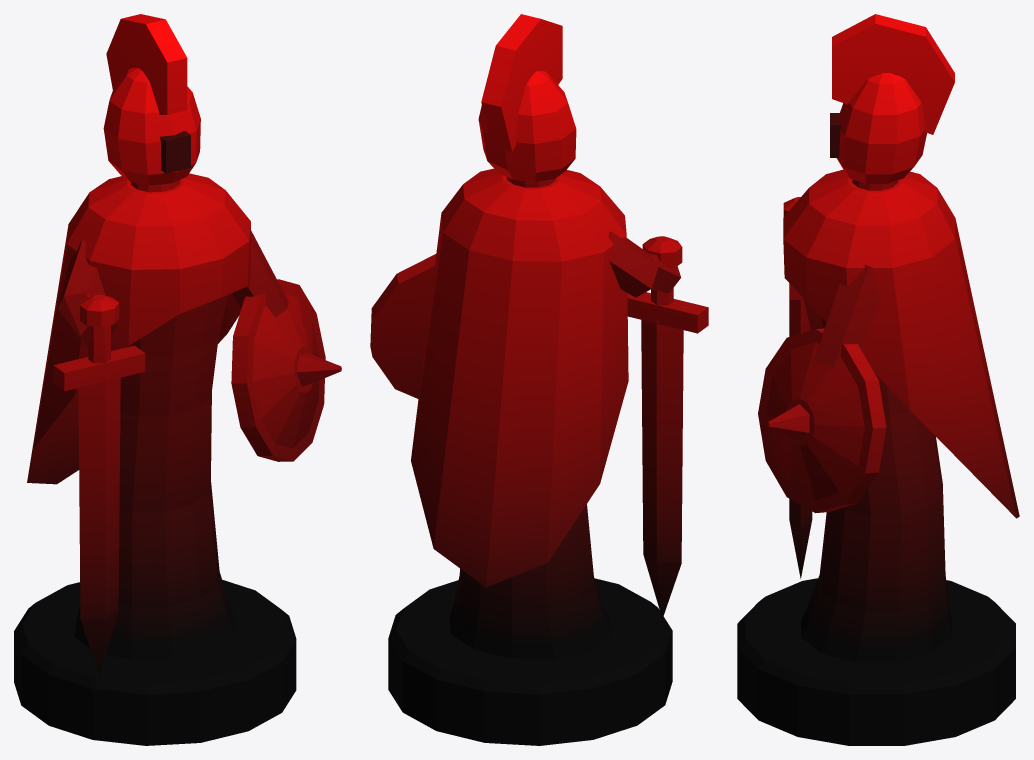
Rendered from ns-swordsman-cast.glb.
3 renders of one model, left to right at view 1: azimuth 30°, elevation 25°; view 2: azimuth 150°, elevation 25°; view 3: azimuth 270°, elevation 25°, orthographic.
Parts seen in each view (by area): view 1: Ringed form.001, Ringed form, Cloak, Blade, Tapered form.003, Ringed form.002, Tapered form.002, Crest, Cube.001, Tapered form, Tapered form.001, Cube (+3 smaller); view 2: Cloak, Ringed form, Ringed form.001, Blade, Ringed form.002, Crest, Tapered form.002, Tapered form, Cube.001, Ringed form.004; view 3: Cloak, Ringed form, Ringed form.001, Tapered form.003, Crest, Ringed form.002, Tapered form.002, Tapered form.001, Blade, Tapered form.004.
Part boxes in pixels (x1,y1,x2,y2): Ringed form.001: [74, 180, 235, 660]; Ringed form: [14, 580, 296, 745]; Cloak: [27, 173, 250, 484]; Blade: [78, 377, 120, 674]; Tapered form.003: [252, 293, 319, 448]; Ringed form.002: [103, 67, 200, 185]; Tapered form.002: [231, 279, 325, 461]; Crest: [106, 14, 187, 114]; Cube.001: [53, 345, 145, 391]; Tapered form: [57, 241, 117, 347]; Tapered form.001: [232, 230, 288, 317]; Cube: [160, 131, 190, 173]; Cloak: [411, 168, 628, 587]; Ringed form: [388, 578, 672, 745]; Ringed form.001: [449, 177, 611, 659]; Blade: [641, 320, 683, 618]; Ringed form.002: [478, 70, 576, 181]; Crest: [481, 14, 562, 151]; Tapered form.002: [370, 254, 436, 398]; Tapered form: [608, 231, 680, 297]; Cube.001: [627, 292, 708, 333]; Ringed form.004: [642, 236, 682, 268]; Cloak: [783, 169, 1019, 518]; Ringed form: [737, 578, 1015, 745]; Ringed form.001: [801, 179, 951, 662]; Tapered form.003: [766, 342, 864, 500]; Crest: [832, 14, 954, 134]; Ringed form.002: [836, 73, 926, 183]; Tapered form.002: [758, 328, 886, 513]; Tapered form.001: [814, 265, 879, 367]; Blade: [789, 283, 812, 578]; Tapered form.004: [766, 404, 809, 440].
Bounding box in the file's own units: 0.585 × 1.24 × 0.4769.
